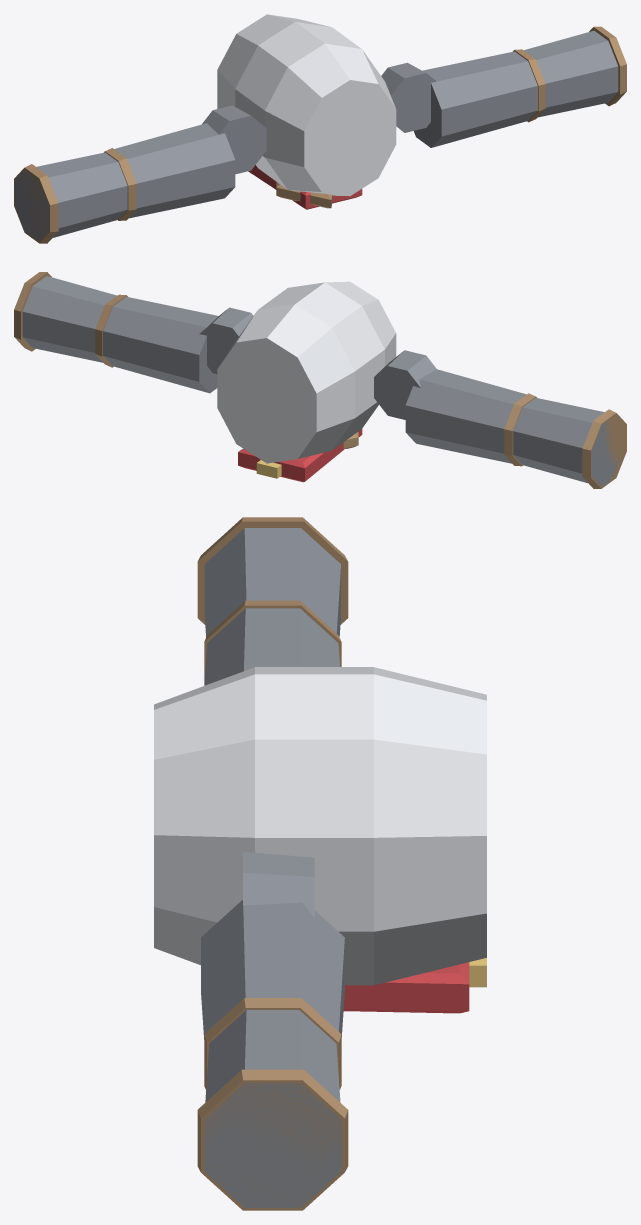
File: armor_leather.glb
3 renders of one model, top to bottom at view 1: azimuth 30°, elevation 25°; view 2: azimuth 150°, elevation 25°; view 3: azimuth 270°, elevation 25°, orthographic. The views are drawn at different scales.
Parts seen in each view (by area): view 1: Torso, UpperArmL, UpperArmR, LowerArmR, LowerArmL; view 2: Torso, UpperArmR, UpperArmL, LowerArmR, LowerArmL; view 3: Torso, LowerArmL, UpperArmL, LowerArmR, UpperArmR.
Boxes of the visible parts, box(x1,y1,x2,y2) form: Torso: box(217, 14, 396, 209); UpperArmL: box(381, 51, 537, 147); UpperArmR: box(114, 105, 266, 218); LowerArmR: box(14, 148, 136, 243); LowerArmL: box(513, 26, 626, 122); Torso: box(217, 281, 396, 482); UpperArmR: box(374, 350, 526, 463); UpperArmL: box(103, 296, 253, 393); LowerArmR: box(504, 393, 626, 488); LowerArmL: box(14, 272, 127, 367); Torso: box(154, 667, 486, 1013); LowerArmL: box(197, 998, 348, 1210); UpperArmL: box(201, 851, 344, 1039); LowerArmR: box(197, 517, 348, 682); UpperArmR: box(204, 608, 340, 685).
Bounding box in the file's own units: 2.24 × 0.5762 × 0.56.
